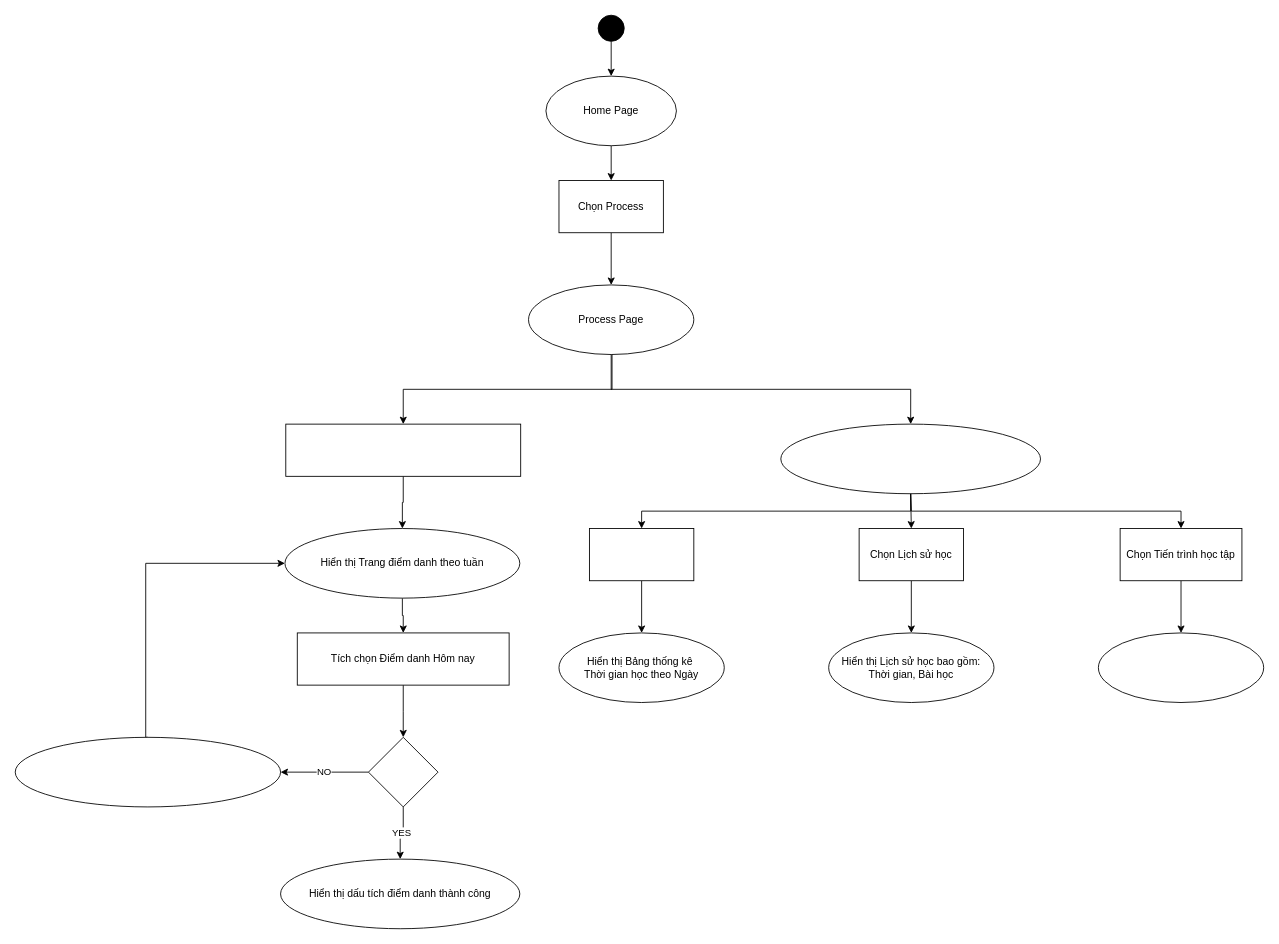
Image size: 1279x944. Some labels were removed from this diagram. Each missing label, with the box of its shape:
Chọn Thời gian học: (589, 528, 694, 581)
Chọn Điểm danh: (285, 423, 521, 476)
Hiển thị Thời gian học, Lịch sử học, Tiến trình học tập: (780, 423, 1041, 494)
Hiển thị Tên khóa học, Điểm đạt được, Thời gian học: (1098, 632, 1264, 703)
Thông báo: Hôm nay bạn chưa hoàn thành bài học nào!: (14, 736, 281, 807)
